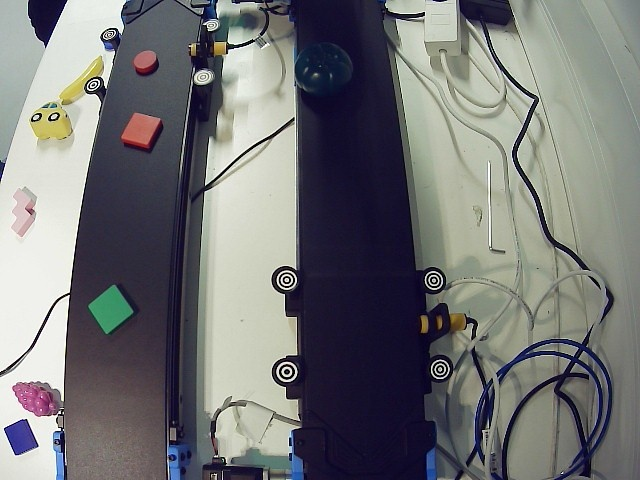Green_Square: (88, 284, 137, 334)
Red_Circle: (133, 49, 160, 74)
Red_Square: (122, 114, 163, 151)
Unknown: (294, 43, 356, 99)
